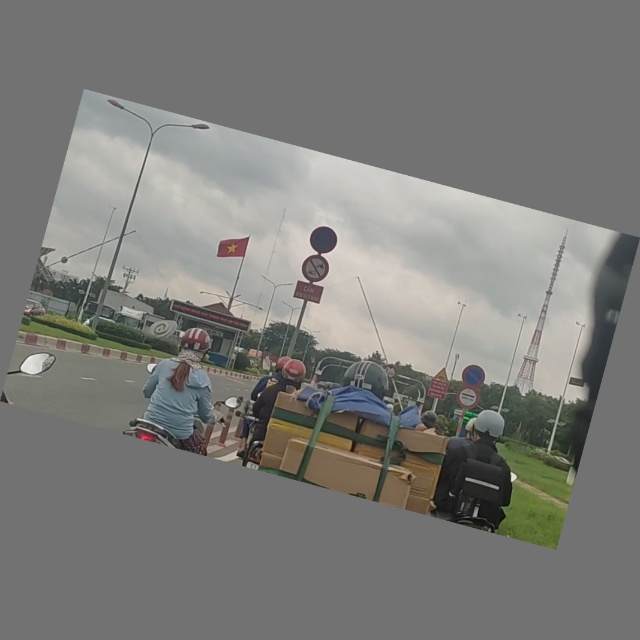P.111: (299, 253, 333, 286)
P.117*: (382, 365, 398, 381)
P.129: (455, 384, 481, 412)
P.130: (307, 224, 341, 256)
P.131a: (459, 363, 487, 390)
W.221b: (433, 366, 451, 383)
